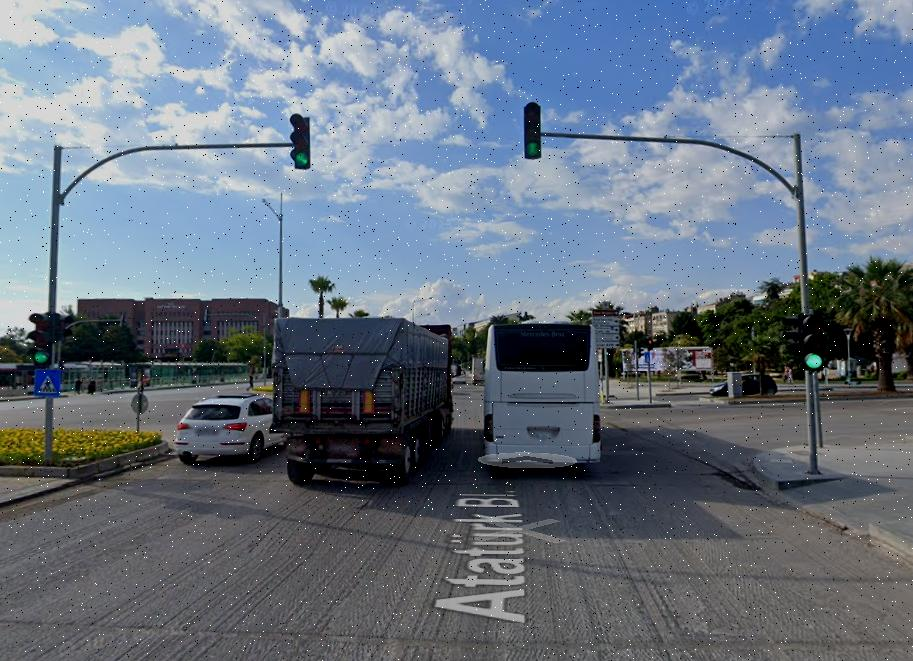greenlight: (25, 310, 53, 368), (801, 308, 823, 371), (290, 113, 311, 172), (523, 102, 541, 157)
